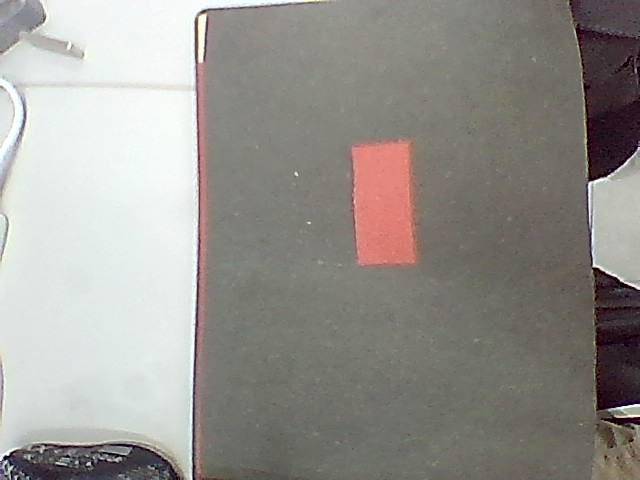card: (352, 141, 415, 265)
